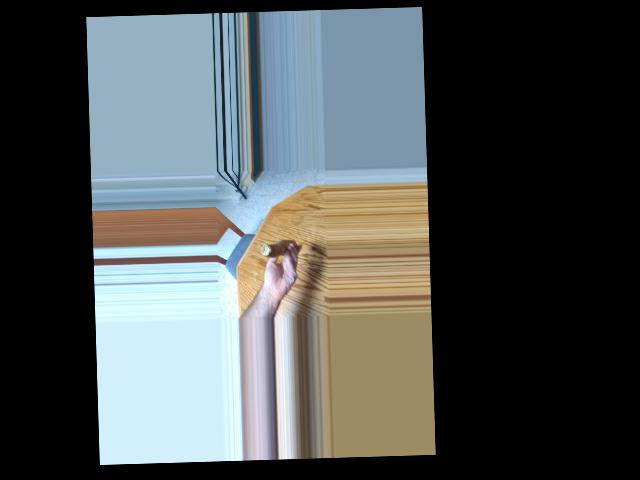sweet_potato: (255, 237, 299, 267)
